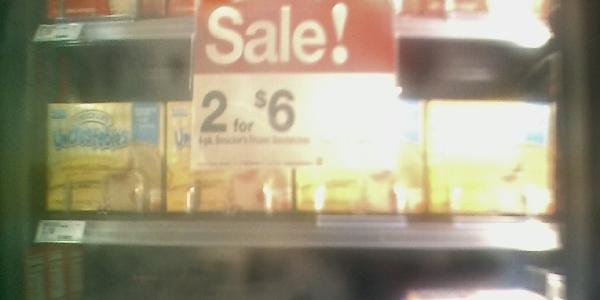icecream: (425, 98, 558, 216), (292, 101, 428, 214), (165, 102, 291, 216), (44, 101, 164, 213)
